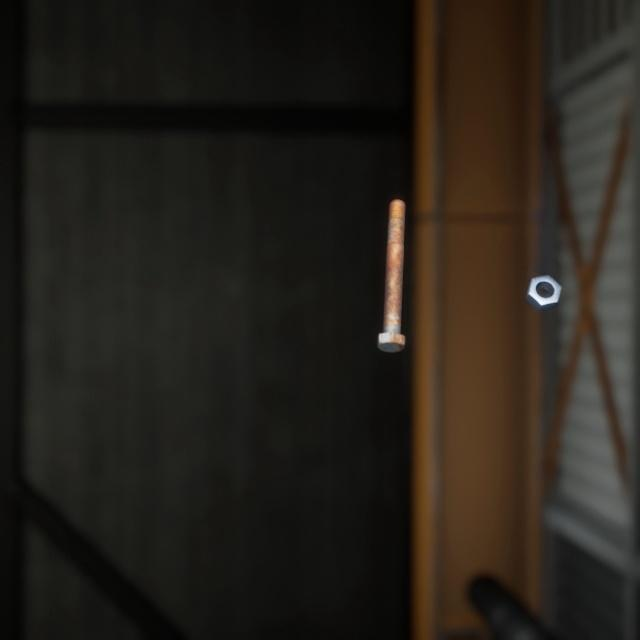bolt: (372, 179, 409, 340), (528, 612, 564, 640)
nut: (521, 253, 566, 298)
